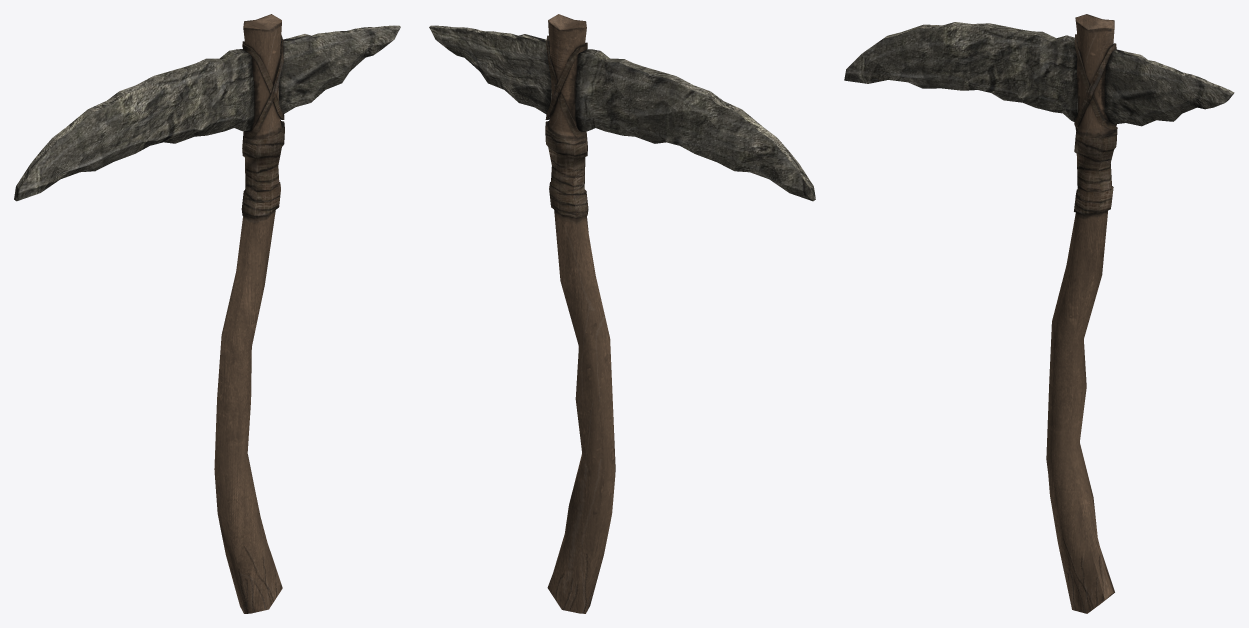
The model's file is Stone Pickaxe.fbx.
3 renders of one model, left to right at view 1: azimuth 30°, elevation 25°; view 2: azimuth 150°, elevation 25°; view 3: azimuth 330°, elevation 25°, orthographic.
Parts seen in each view (by area): view 1: Stone Pickaxe; view 2: Stone Pickaxe; view 3: Stone Pickaxe.
Boxes of the visible parts, x1,y1,x2,y2 form: Stone Pickaxe: (14,14,400,613); Stone Pickaxe: (429,14,815,613); Stone Pickaxe: (844,14,1234,613).
Bounding box in the file's own units: 67.9 × 99.21 × 5.75.
